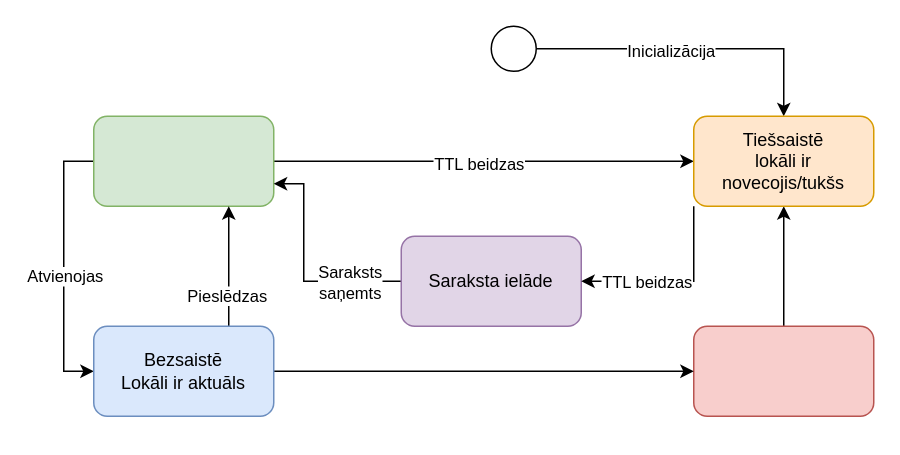
This 900x455 diagram has some shape labels left out. The centre of each missing label's shape, as x and y in pixels:
"Bezsaistē Lokāli ir novecojis" belongs at point 783,370.
"Tiešsaistē lokāli ir aktuāls" belongs at point 183,160.
